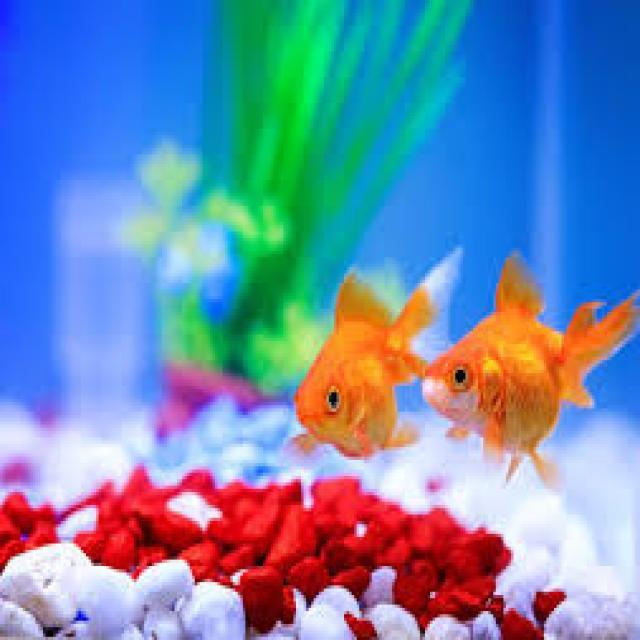goldfish: (428, 284, 621, 463), (305, 255, 453, 465)
